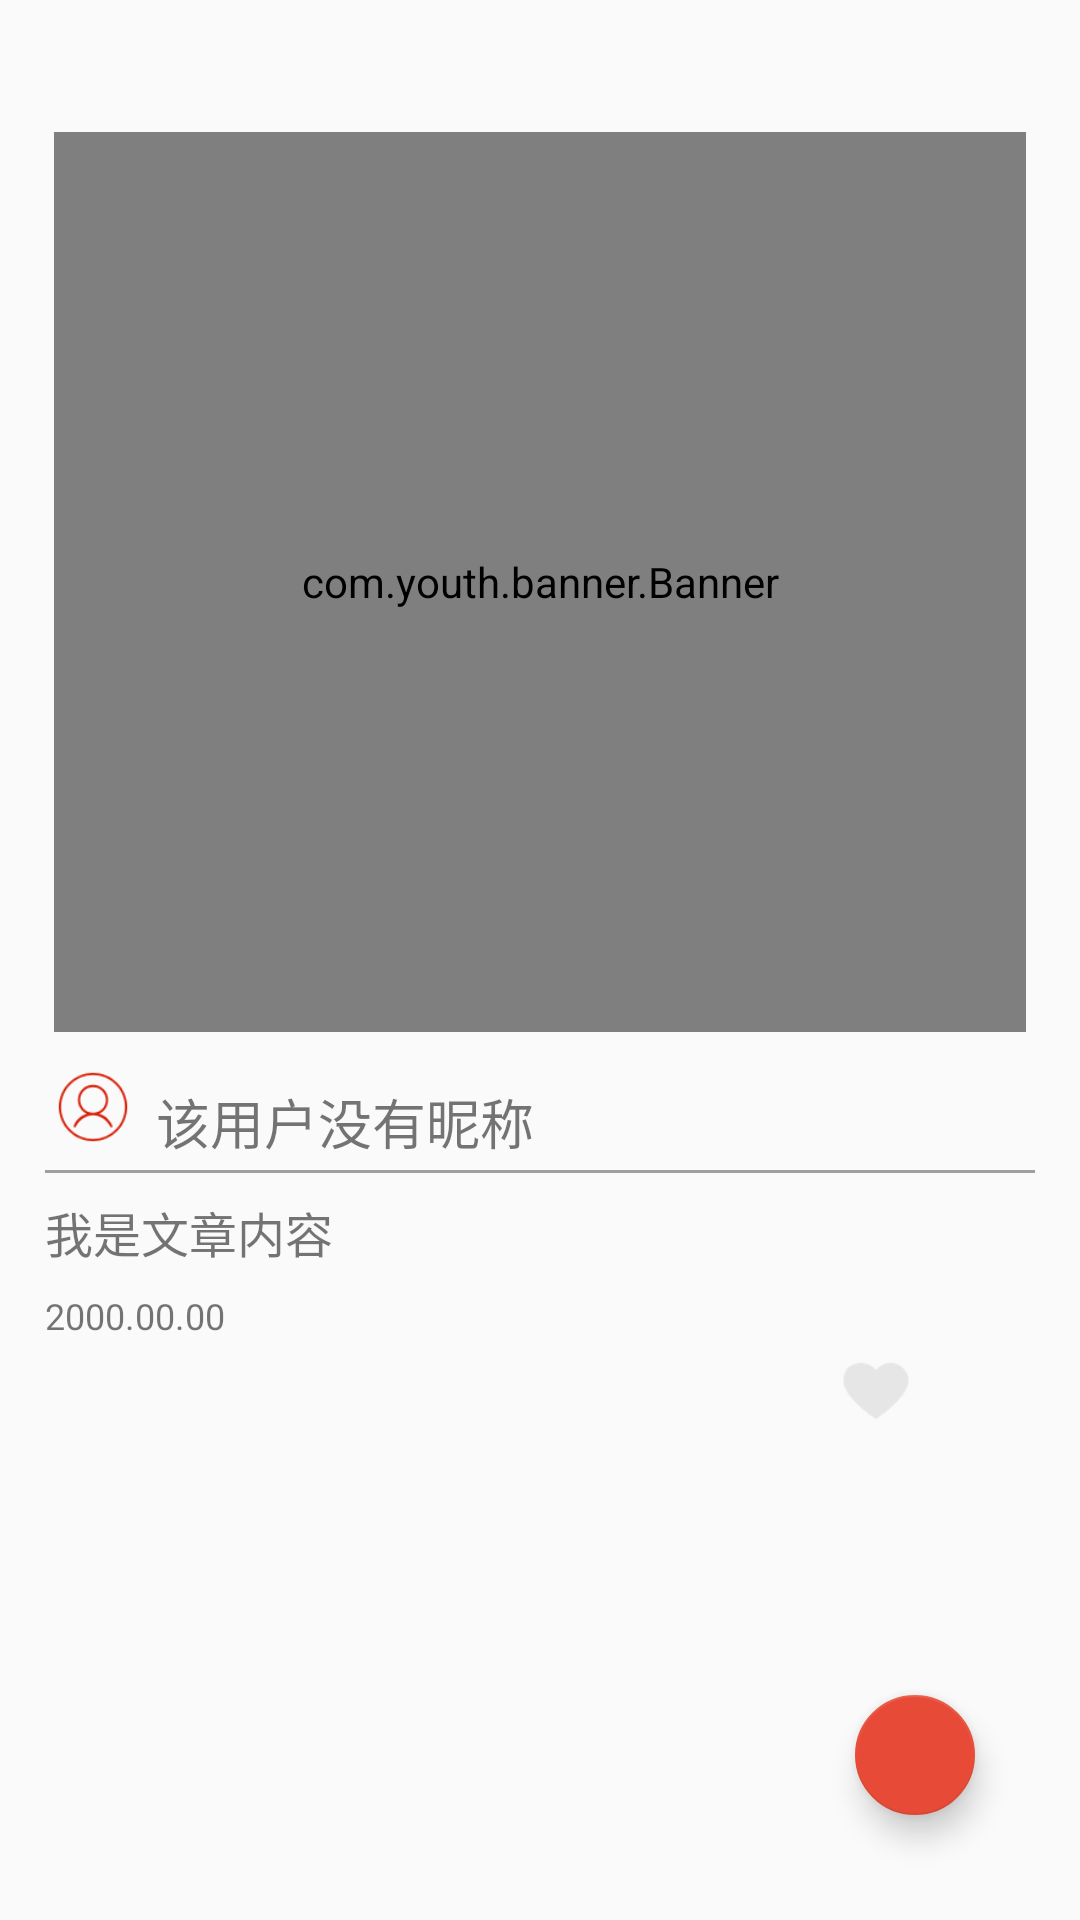

Icons on this 1080 × 1920 Android screen, each with the point to tap as [x,y]:
head: [93,1107]
